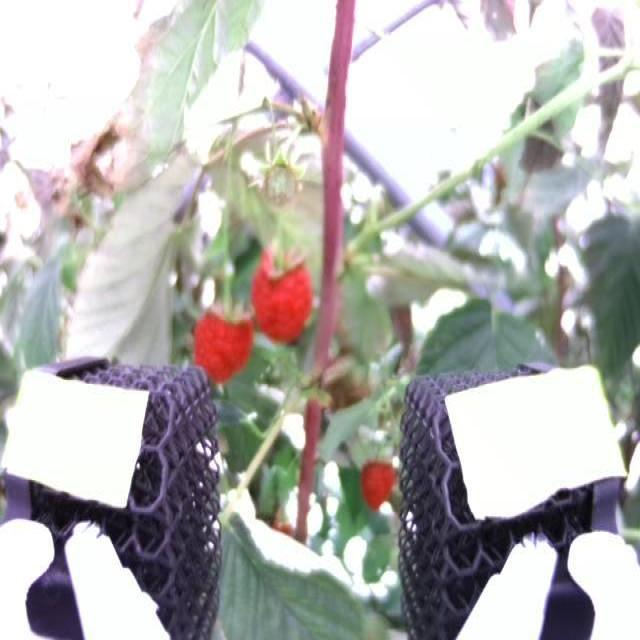Riped berries: (250, 245, 321, 342), (189, 297, 254, 378), (360, 451, 396, 510)
